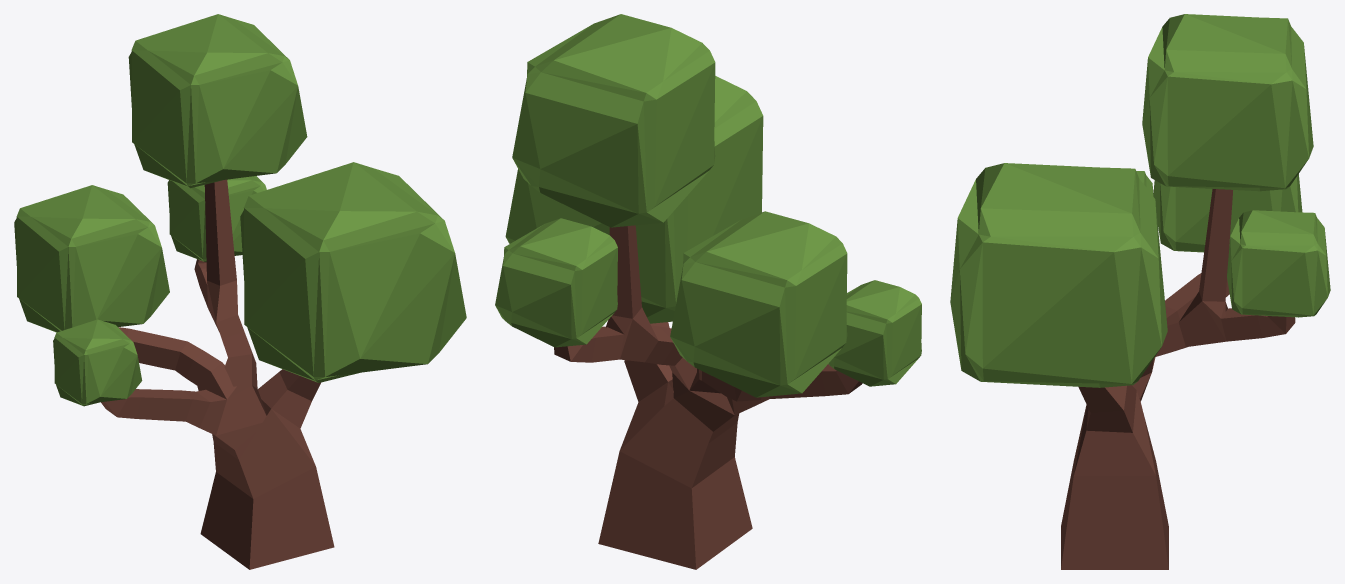
The model's file is tree_17.fbx.
3 views of the same model, side by side, from view 1: azimuth 30°, elevation 25°; view 2: azimuth 150°, elevation 25°; view 3: azimuth 270°, elevation 25° (orthographic). The views are drawn at different scales.
Parts seen in each view (by area): view 1: Plane.026; view 2: Plane.026; view 3: Plane.026.
Boxes of the visible parts, x1=… form: Plane.026: x1=14, y1=14, x2=466, y2=569; Plane.026: x1=495, y1=14, x2=921, y2=569; Plane.026: x1=950, y1=14, x2=1330, y2=569.
Bounding box in the file's own units: 459 × 623 × 413.
